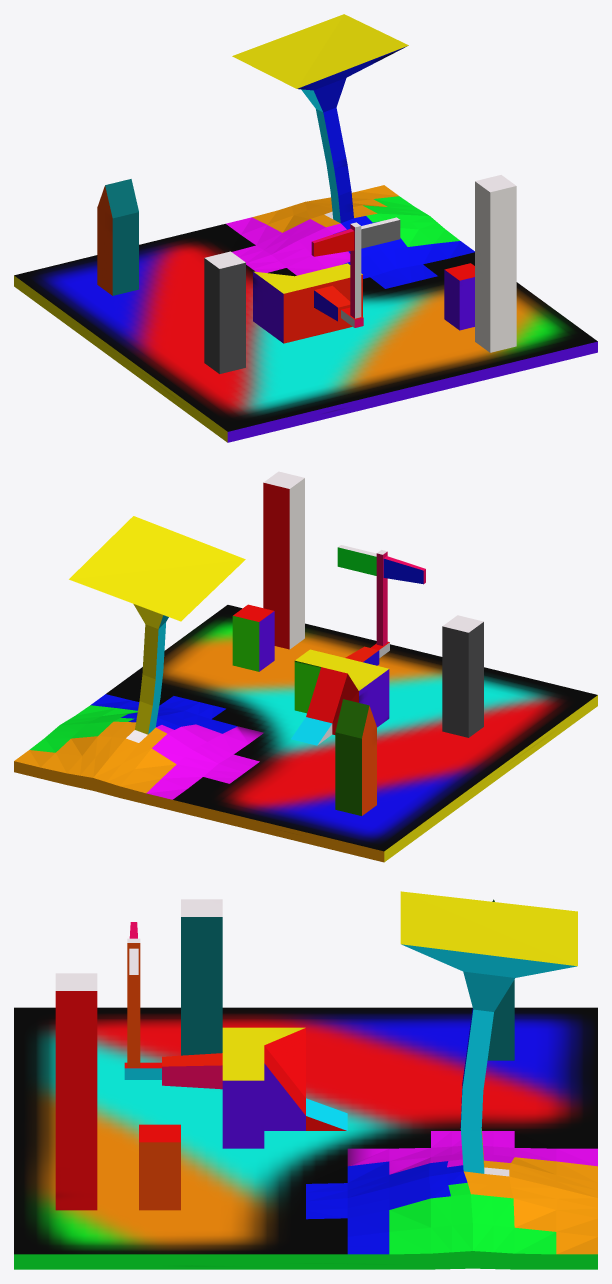
Rendered from Place.obj.
The picture shows the model from 3 angles, top to bottom: view 1: azimuth 30°, elevation 25°; view 2: azimuth 150°, elevation 25°; view 3: azimuth 270°, elevation 25°; orthographic projection. The views are drawn at different scales.
Parts seen in each view (by area): view 1: Cube; view 2: Cube; view 3: Cube.
Boxes of the visible parts, x1=… form: Cube: x1=14, y1=14, x2=597, y2=442; Cube: x1=14, y1=471, x2=597, y2=862; Cube: x1=14, y1=891, x2=597, y2=1269.
Bounding box in the file's own units: 14 × 7.77 × 14.
